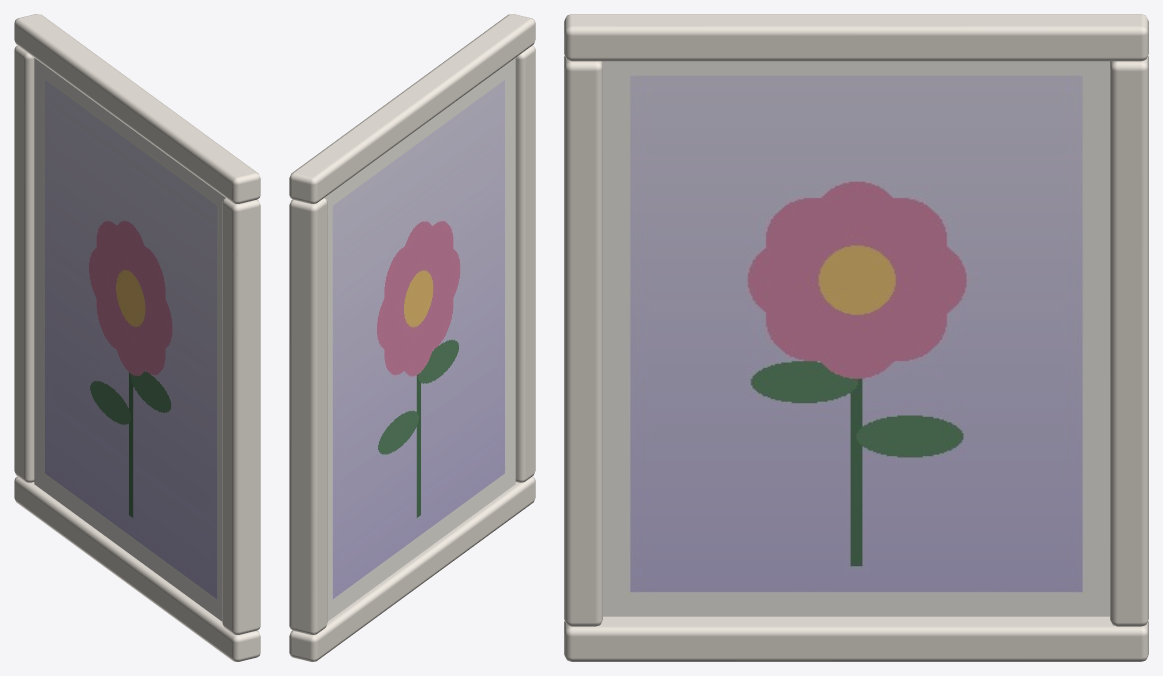
The model's file is print_flower.fbx.
The picture shows the model from 3 angles, left to right: view 1: azimuth 30°, elevation 25°; view 2: azimuth 150°, elevation 25°; view 3: azimuth 270°, elevation 25°; orthographic projection. The views are drawn at different scales.
Visible parts, largest first — view 1: print_flower; view 2: print_flower; view 3: print_flower.
Part boxes in pixels (bbox=[...]): print_flower: bbox=[14, 14, 260, 661]; print_flower: bbox=[289, 14, 535, 661]; print_flower: bbox=[564, 14, 1148, 661].
Size of the model in its own units: 0.022 by 0.36 by 0.3.
